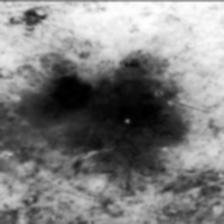Potentially Malignant Skin Tumors: (47, 58, 182, 172)
